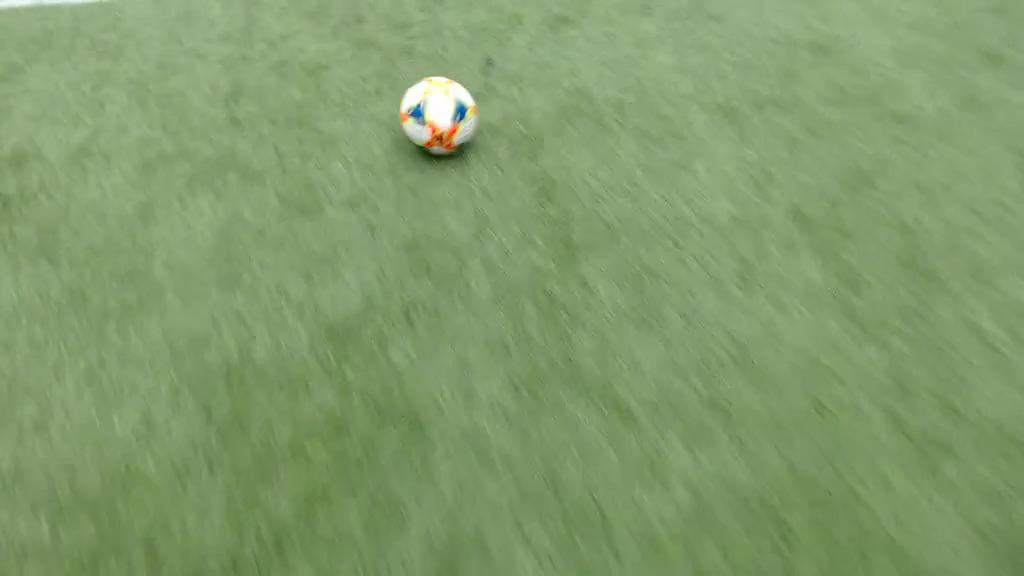ball: (401, 77, 478, 157)
